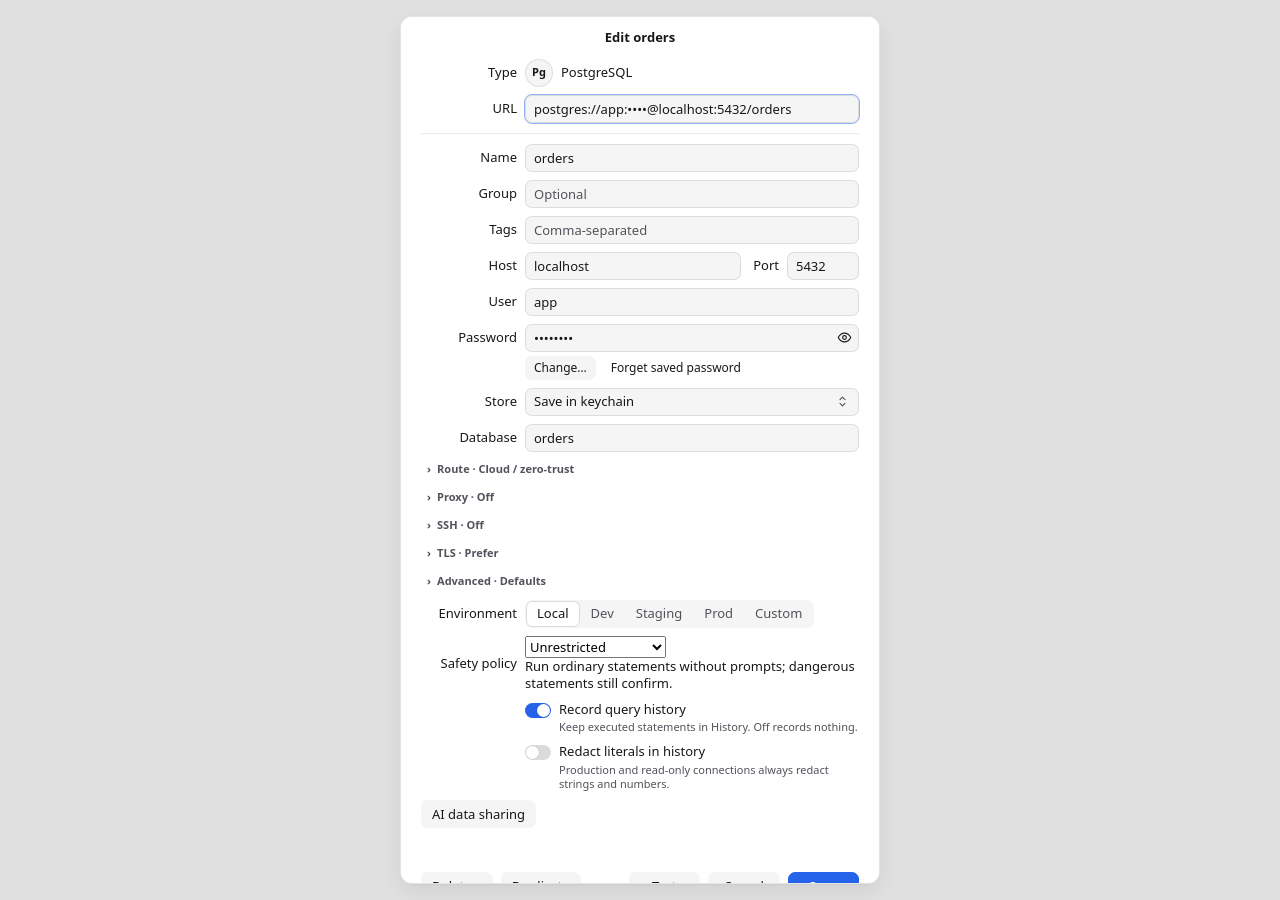
Test: reports a Keychain read that fails and stays masked
The image size is (1280, 900).
Click the button named "Reveal password" at (844, 338), box [832,326,856,350]
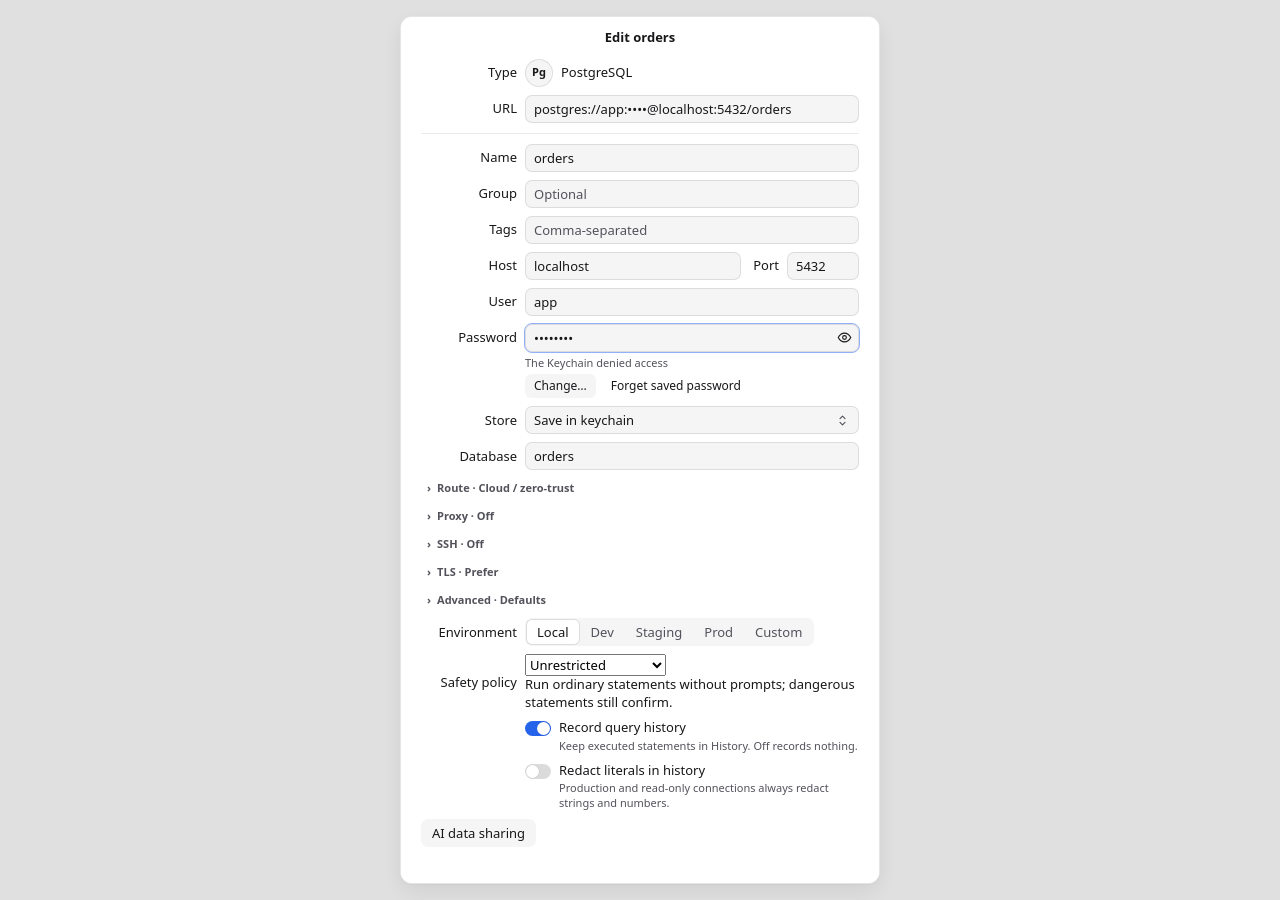
Expected: the message "The Keychain denied access" is shown, [525,354,668,370]
